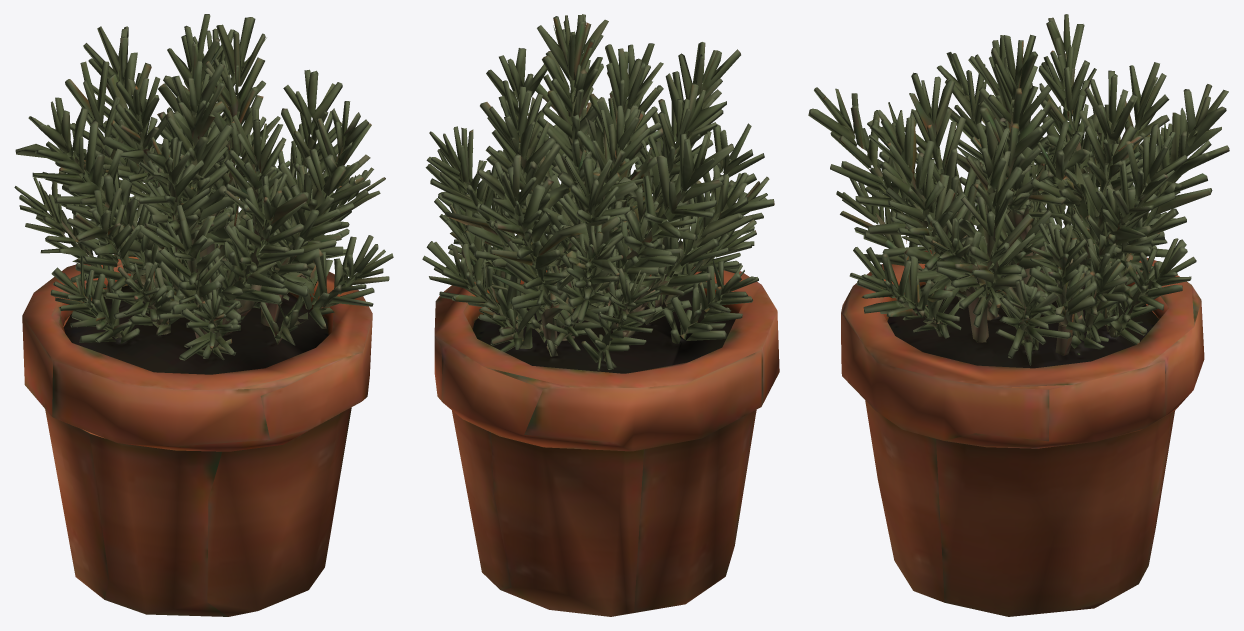
File: decor_pot_t1_small.glb
3 renders of one model, left to right at view 1: azimuth 30°, elevation 25°; view 2: azimuth 150°, elevation 25°; view 3: azimuth 270°, elevation 25°, orthographic. The views are drawn at different scales.
Parts seen in each view (by area): view 1: world; view 2: world; view 3: world.
Part boxes in pixels (<box>): world: <box>14,14,393,616</box>; world: <box>422,14,779,616</box>; world: <box>808,14,1229,616</box>.
Bounding box in the file's own units: 0.3005 × 0.4979 × 0.3461.
Materials: 1 (1 with a texture image).
